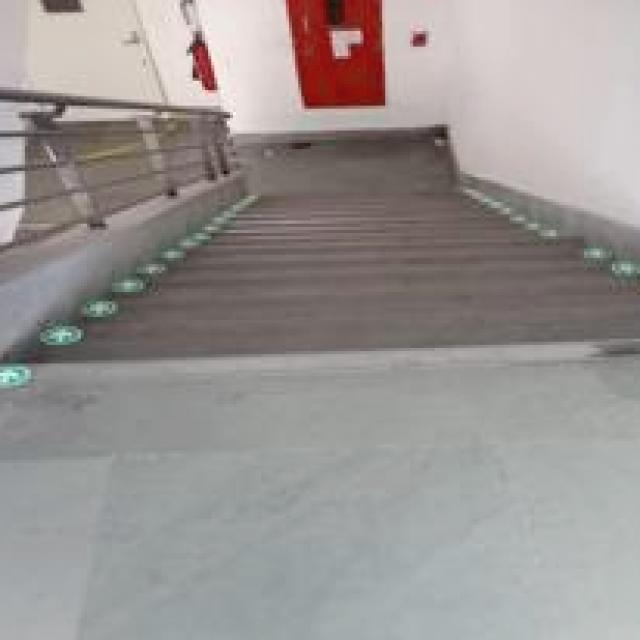downstair: (103, 250, 635, 452)
